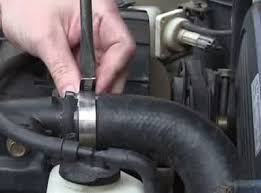radiator_hose: (95, 96, 239, 193)
